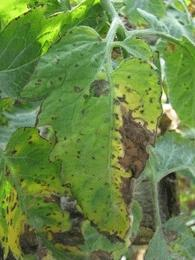Bacterial Spot: (19, 19, 165, 245), (0, 120, 145, 260)
